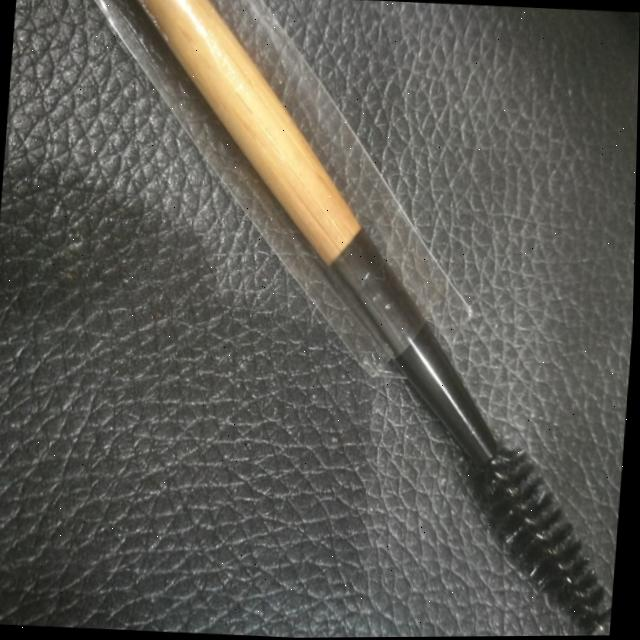mascara: (379, 318, 634, 638)
